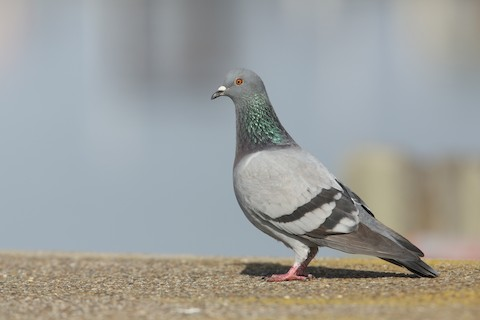pigeon: (209, 66, 443, 285)
